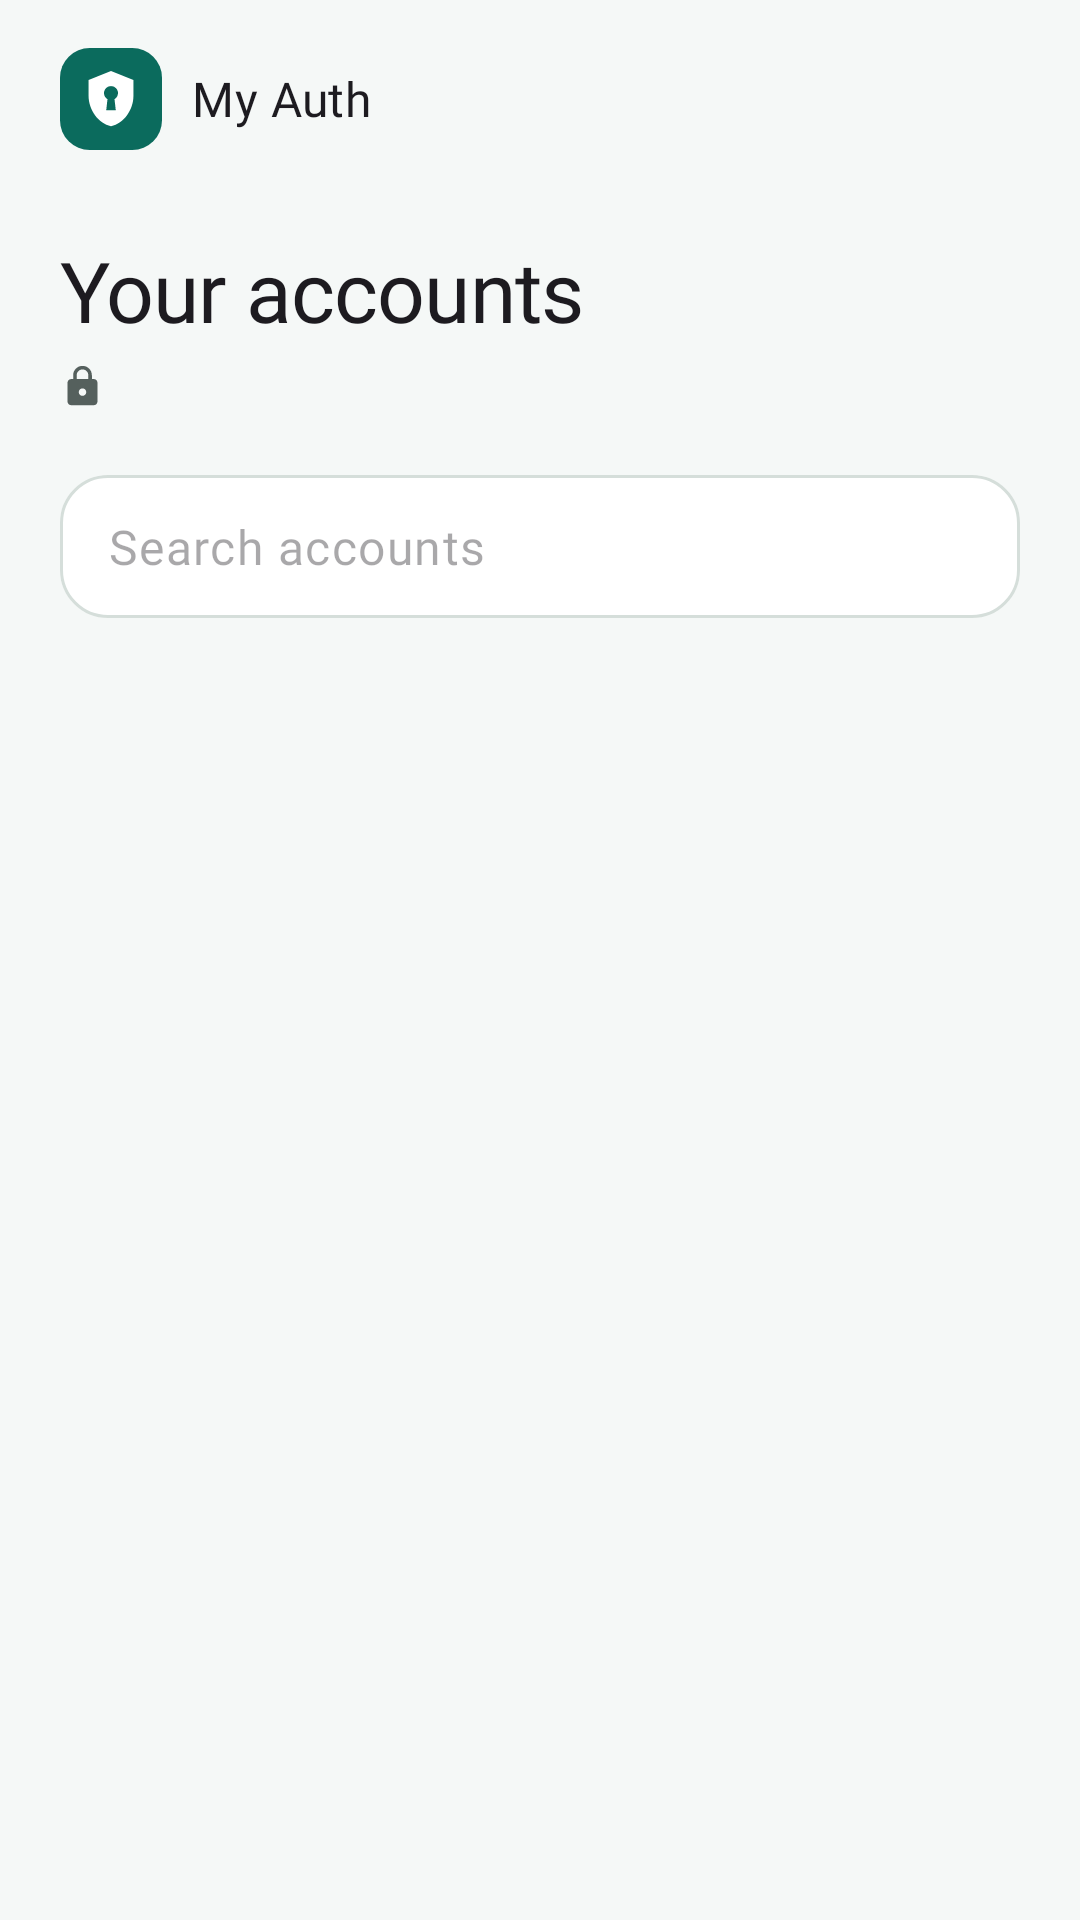

Screen size 1080w x 1920h. Icon name, then its center in pixels as (x,y):
brand mark: (111,99)
